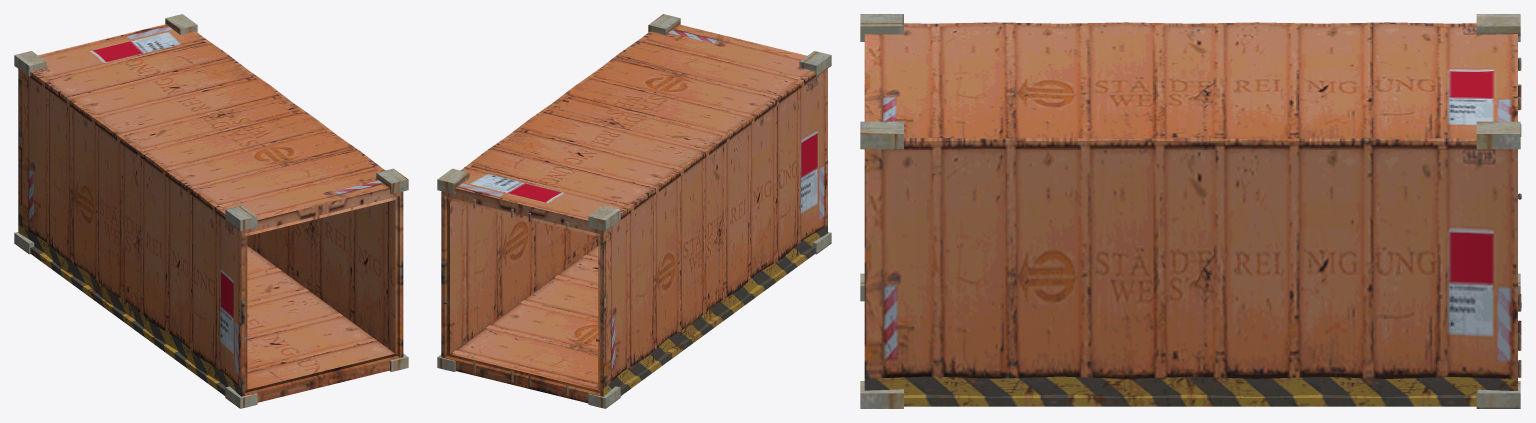
File: ContainerOpen1_SM.fbx
3 views of the same model, side by side, from view 1: azimuth 30°, elevation 25°; view 2: azimuth 150°, elevation 25°; view 3: azimuth 270°, elevation 25° (orthographic). The views are drawn at different scales.
Parts seen in each view (by area): view 1: Box012; view 2: Box012; view 3: Box012.
Boxes of the visible parts, x1,y1,x2,y2 form: Box012: [14, 14, 408, 408]; Box012: [437, 14, 831, 408]; Box012: [860, 14, 1521, 408].
Bounding box in the file's own units: 238 × 255 × 555.
